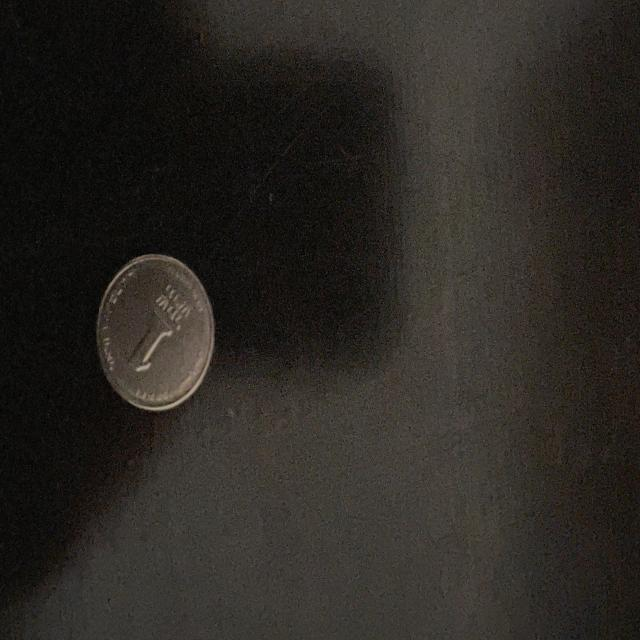1-shekel: (85, 251, 226, 426)
